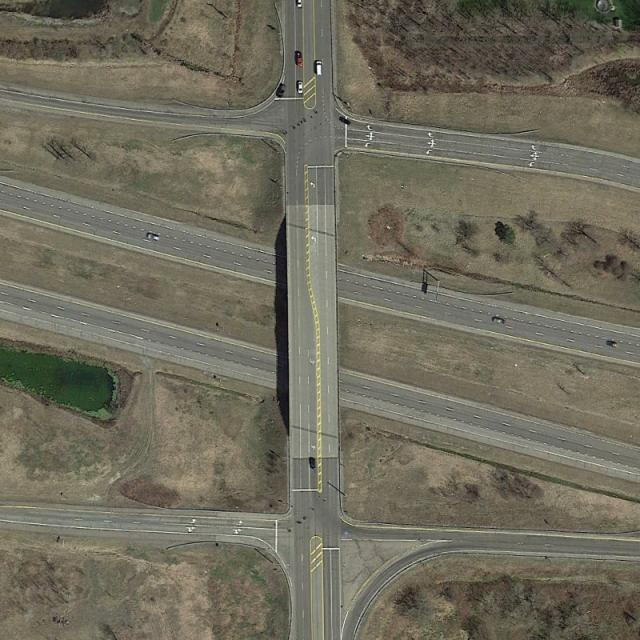vehicle: (275, 84, 287, 98), (295, 52, 303, 67), (339, 117, 350, 126), (316, 59, 322, 74), (492, 317, 503, 325), (309, 457, 316, 469), (147, 234, 158, 241), (297, 81, 302, 93), (297, 1, 302, 9), (608, 342, 617, 346)
